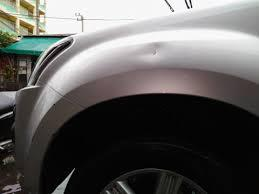fender-dent: (43, 36, 258, 146)
